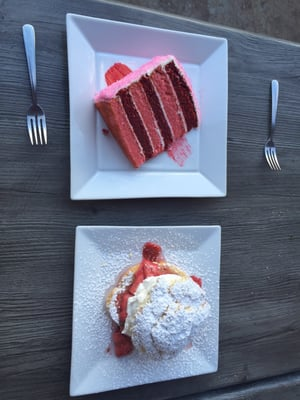burger: (22, 21, 48, 146), (264, 80, 282, 173), (264, 141, 282, 173)
salad: (20, 23, 48, 146)
sandwich: (22, 23, 48, 145)
